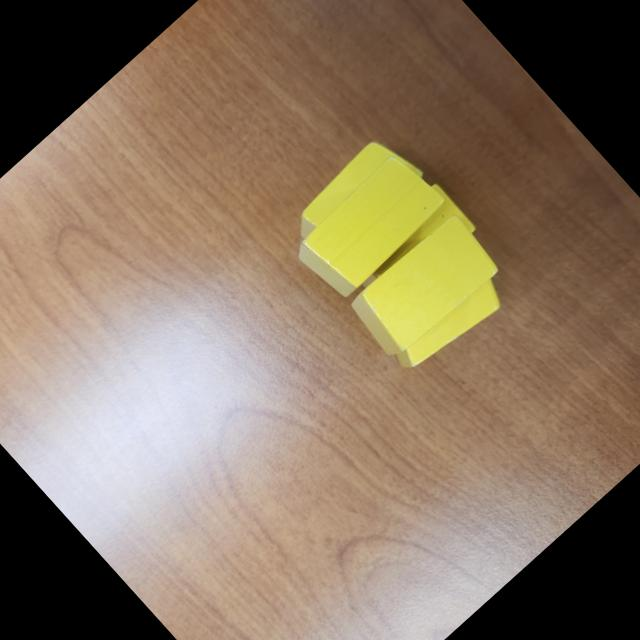yellow: (288, 146, 452, 306), (342, 210, 502, 366), (282, 125, 430, 268), (342, 178, 479, 312), (391, 270, 512, 384)
